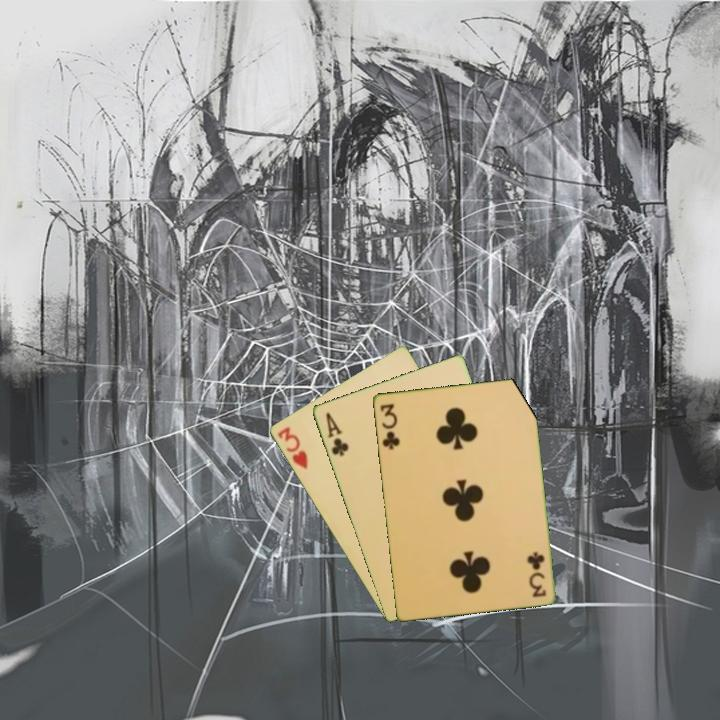3c: (376, 400, 402, 452), (525, 548, 549, 600)
3h: (273, 423, 310, 472)
Ac: (322, 409, 351, 459)
